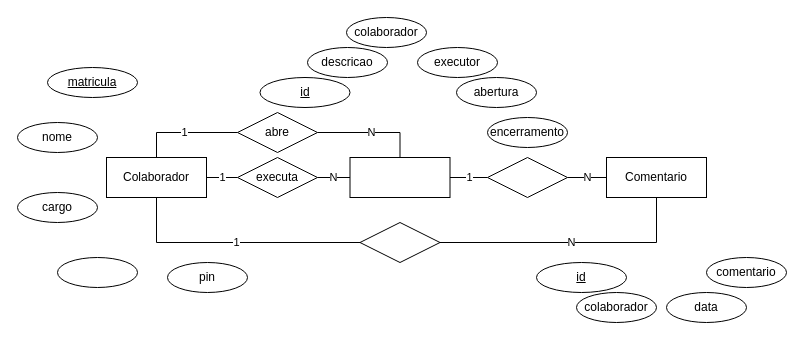
The diagram is 804 pixels wide and 340 high, and some of its shapes have lost their labels. Each missing label, with the centre of its shape:
faz: the point at 399,242
O.S.: the point at 399,177
possui: the point at 527,177
setor: the point at 97,272
